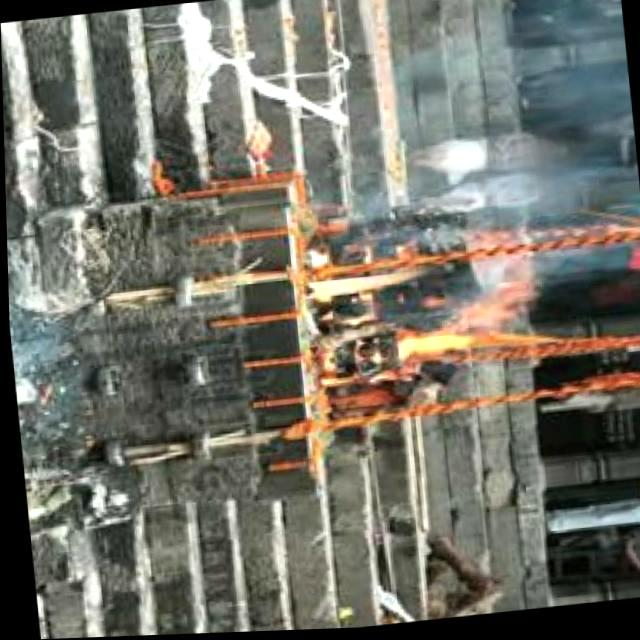fire: (382, 287, 542, 373), (297, 244, 425, 312)
